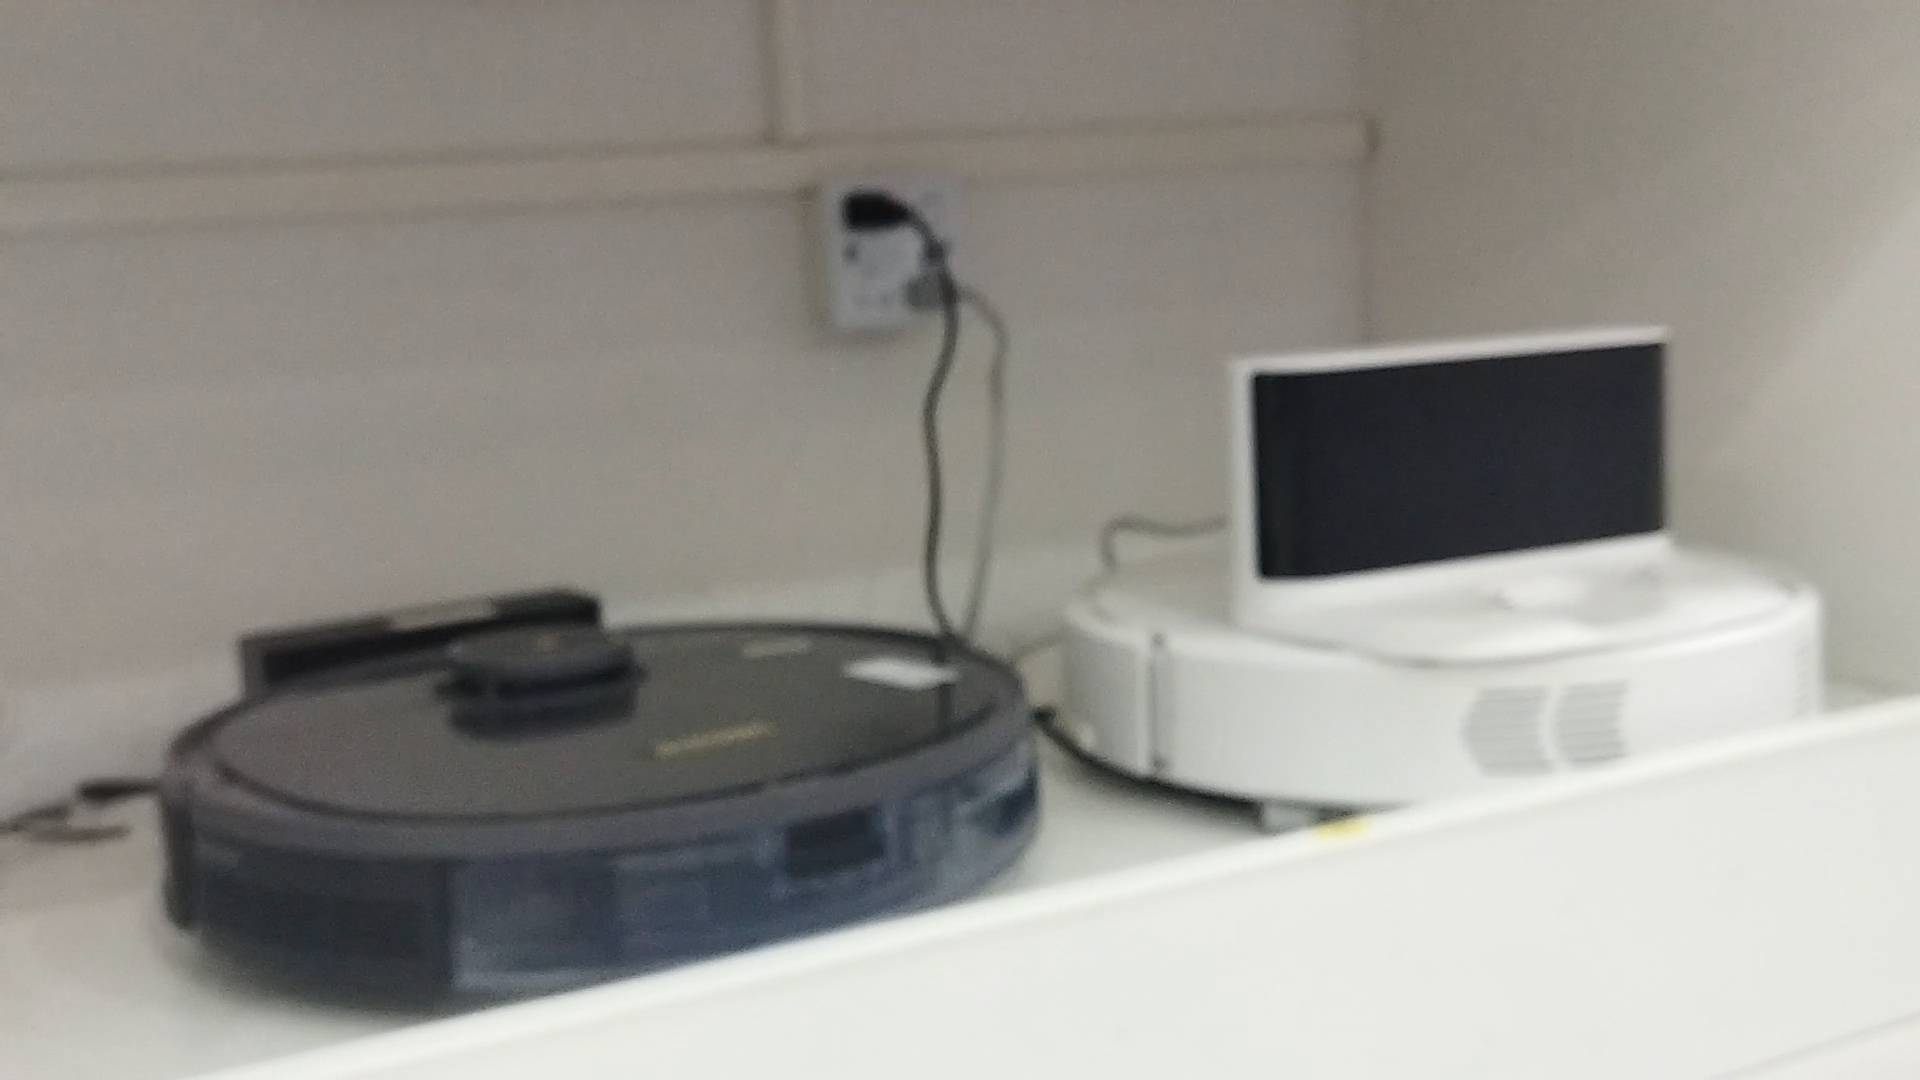recharge seat: (1221, 323, 1791, 666)
